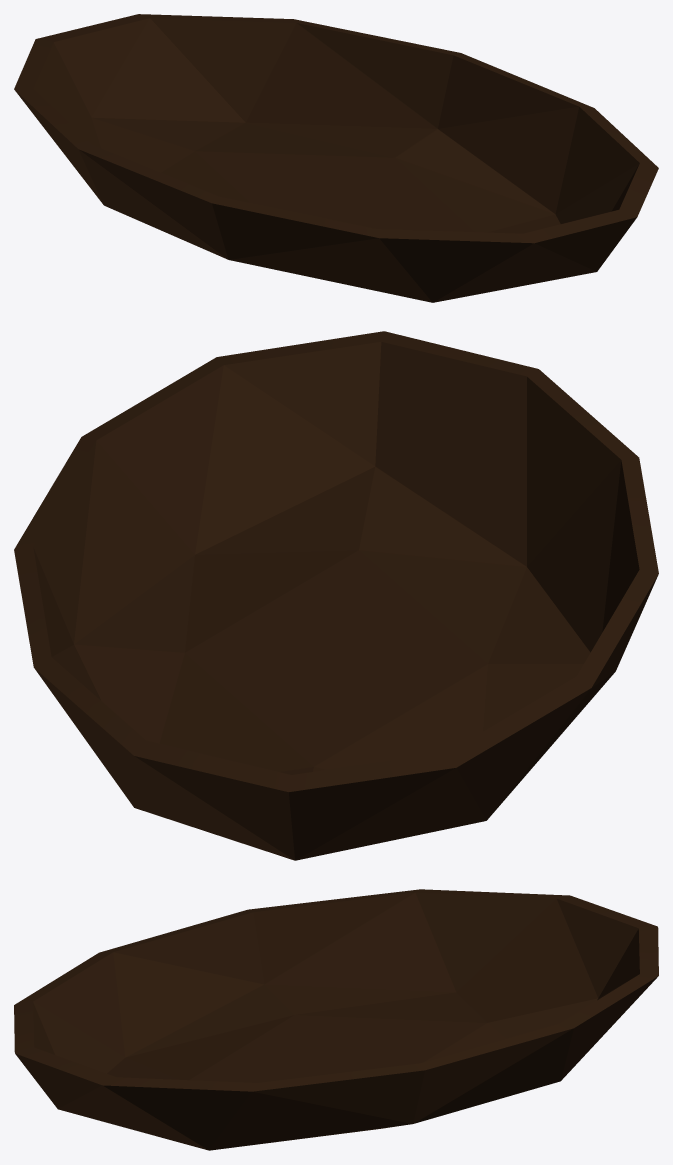
File: Ice_planet_boat_003.FBX
The picture shows the model from 3 angles, top to bottom: view 1: azimuth 30°, elevation 25°; view 2: azimuth 150°, elevation 25°; view 3: azimuth 270°, elevation 25°; orthographic projection. The views are drawn at different scales.
Parts seen in each view (by area): view 1: 003_ICE PLANET_BOAT; view 2: 003_ICE PLANET_BOAT; view 3: 003_ICE PLANET_BOAT.
Part boxes in pixels (<box>): 003_ICE PLANET_BOAT: <box>14,14,658,302</box>; 003_ICE PLANET_BOAT: <box>14,331,658,860</box>; 003_ICE PLANET_BOAT: <box>14,889,658,1150</box>.
Bounding box in the file's own units: 2.9 × 0.793 × 3.91.
